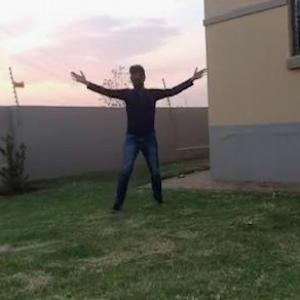takeoff: (48, 41, 192, 210)
